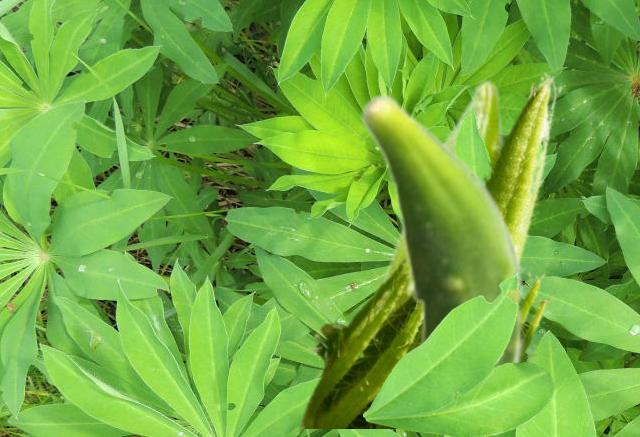okra: (296, 71, 562, 427), (359, 92, 526, 364), (375, 77, 505, 291)
